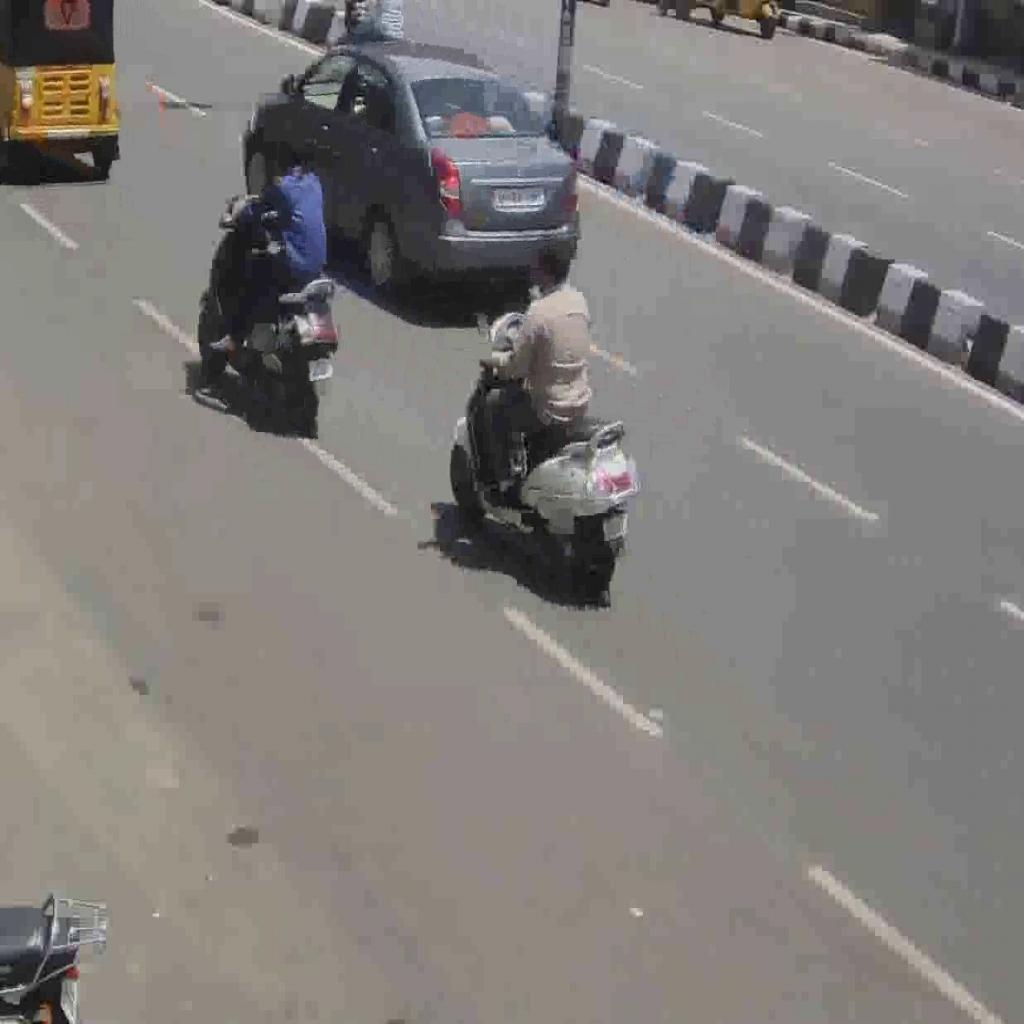helmet: (449, 307, 640, 600), (196, 189, 341, 436)
